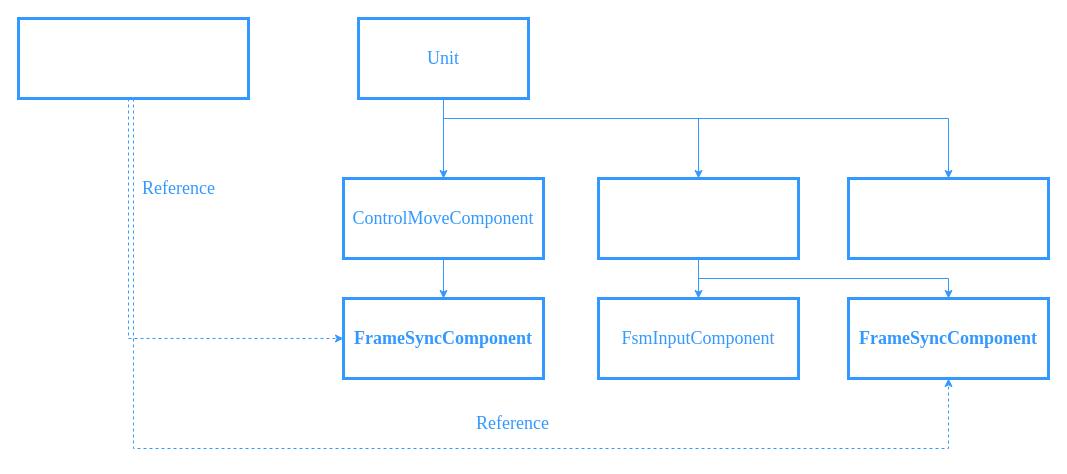
Some shapes in this 1067 by 474 pixel diagram are drawn without their labels. The centre of each missing label's shape, as x and y in pixels:
"FrameSyncMgrComponent" belongs at (133,58).
"FsmComponent" belongs at (698,218).
"XXX" belongs at (948,218).
